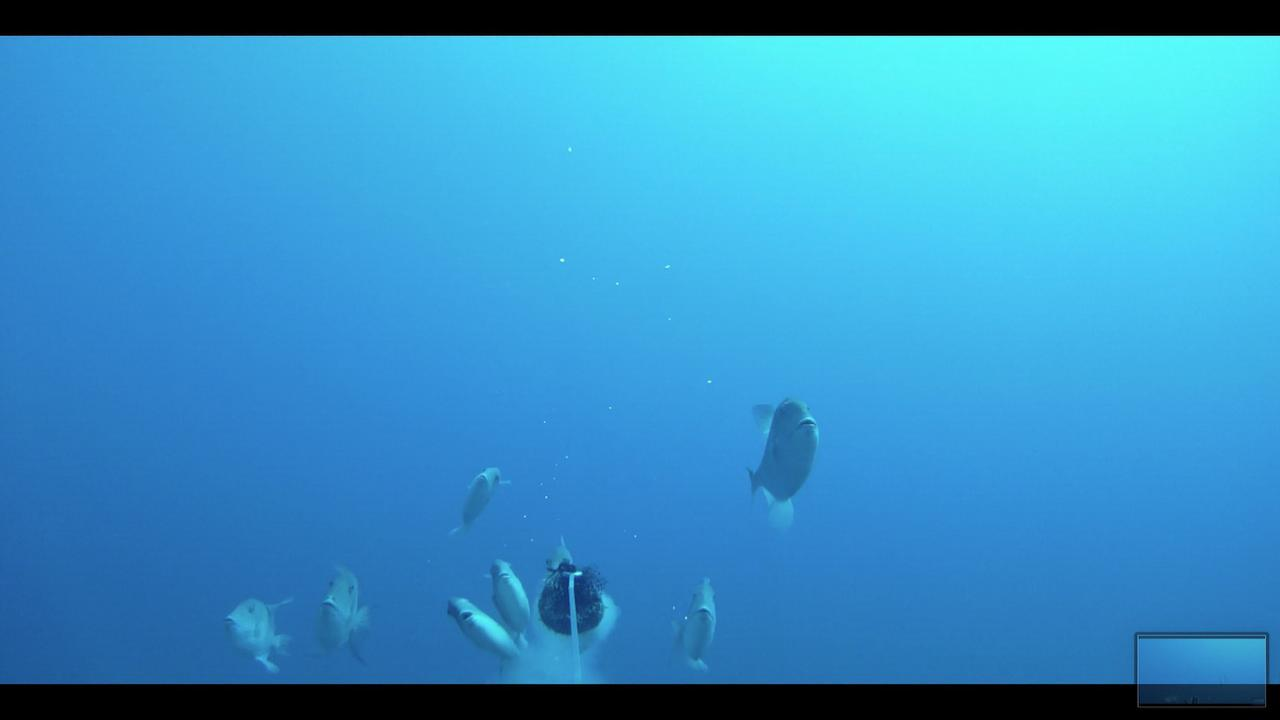balistes: (730, 390, 820, 524), (211, 588, 306, 676), (308, 562, 384, 662), (428, 586, 525, 660), (672, 570, 728, 681), (447, 463, 514, 534), (477, 552, 533, 631)
